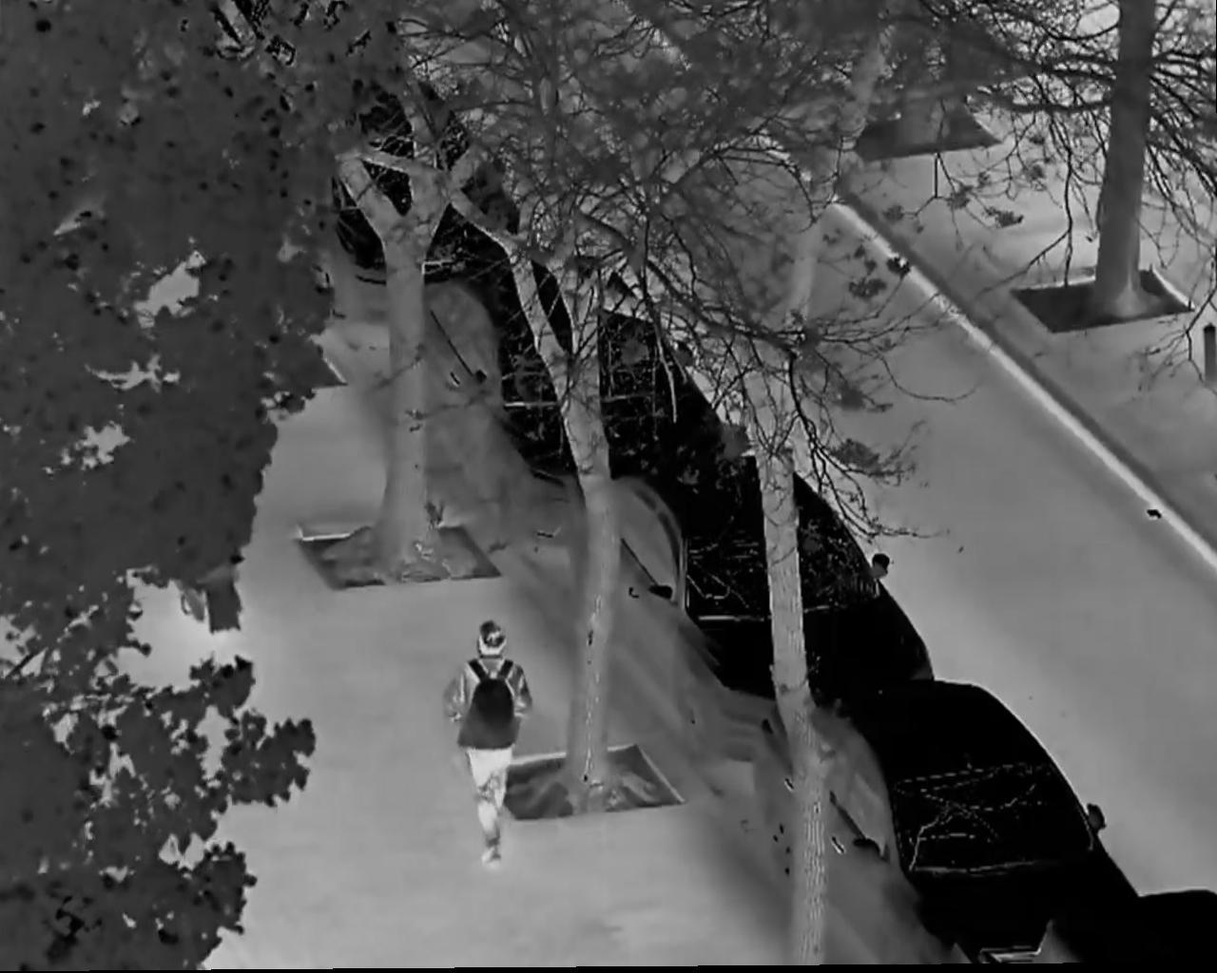person: (447, 620, 527, 870)
